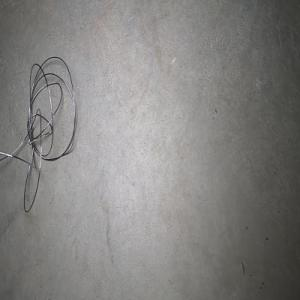Wire: (0, 56, 75, 212)
